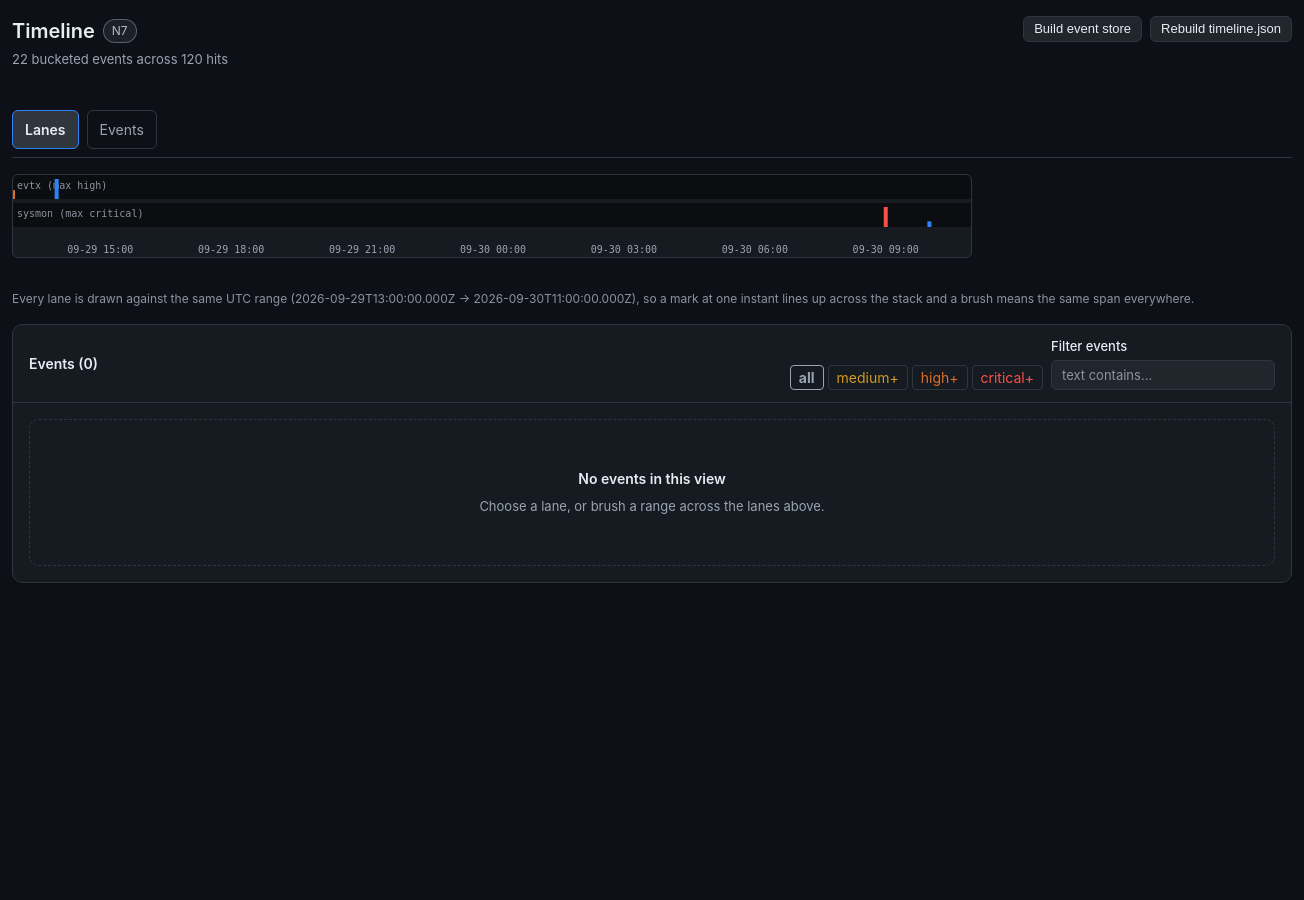
Test case: Timeline lanes (migrated) › brushing gives one instant range, not a per-lane index window
Press the mouse on the icon with test id "time-lanes-svg" at {"x": 492, "y": 216}, box left=12, top=174, right=972, bottom=258
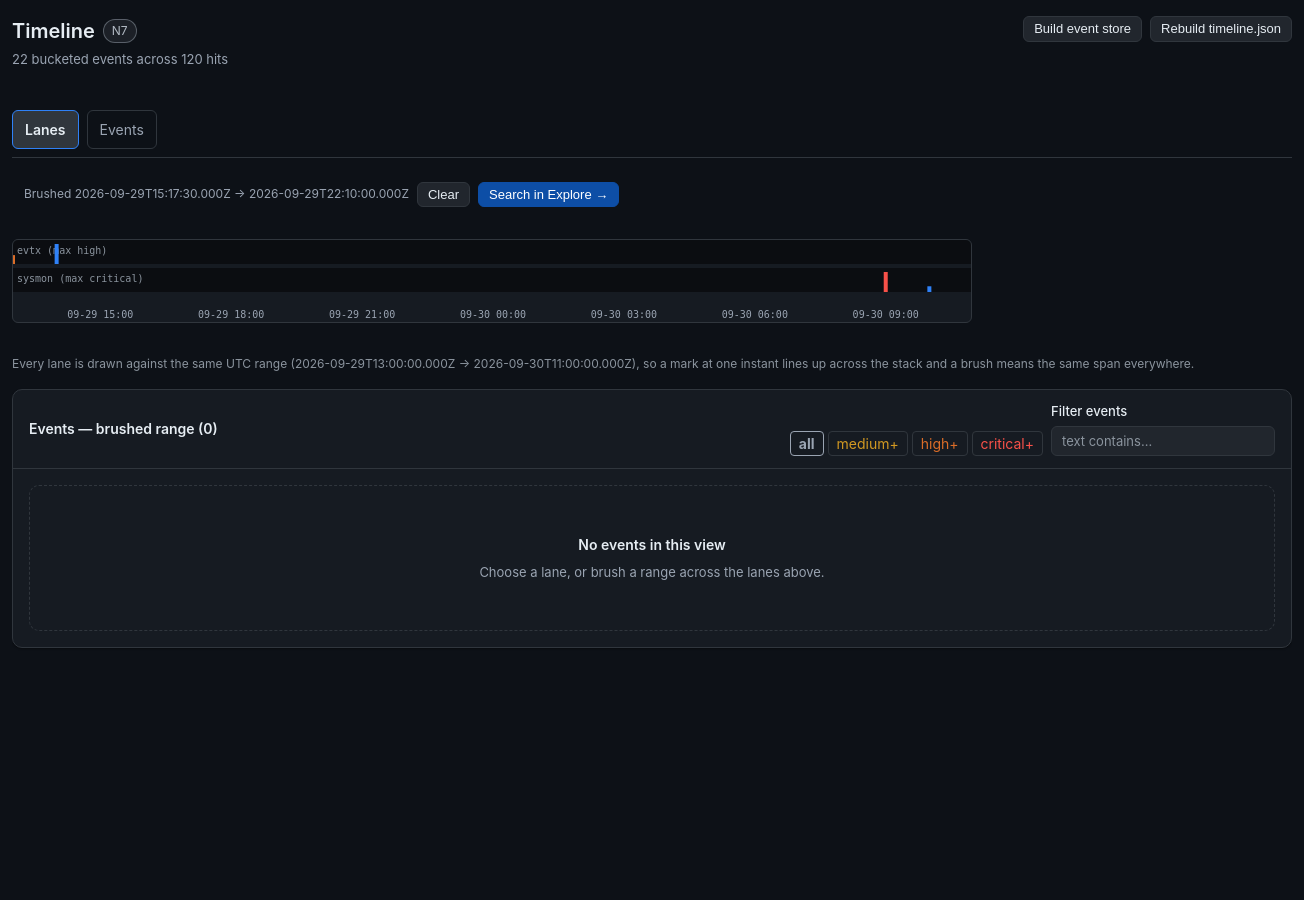
Now the element with test id "timeline-brush" is shown, box left=24, top=182, right=619, bottom=207
